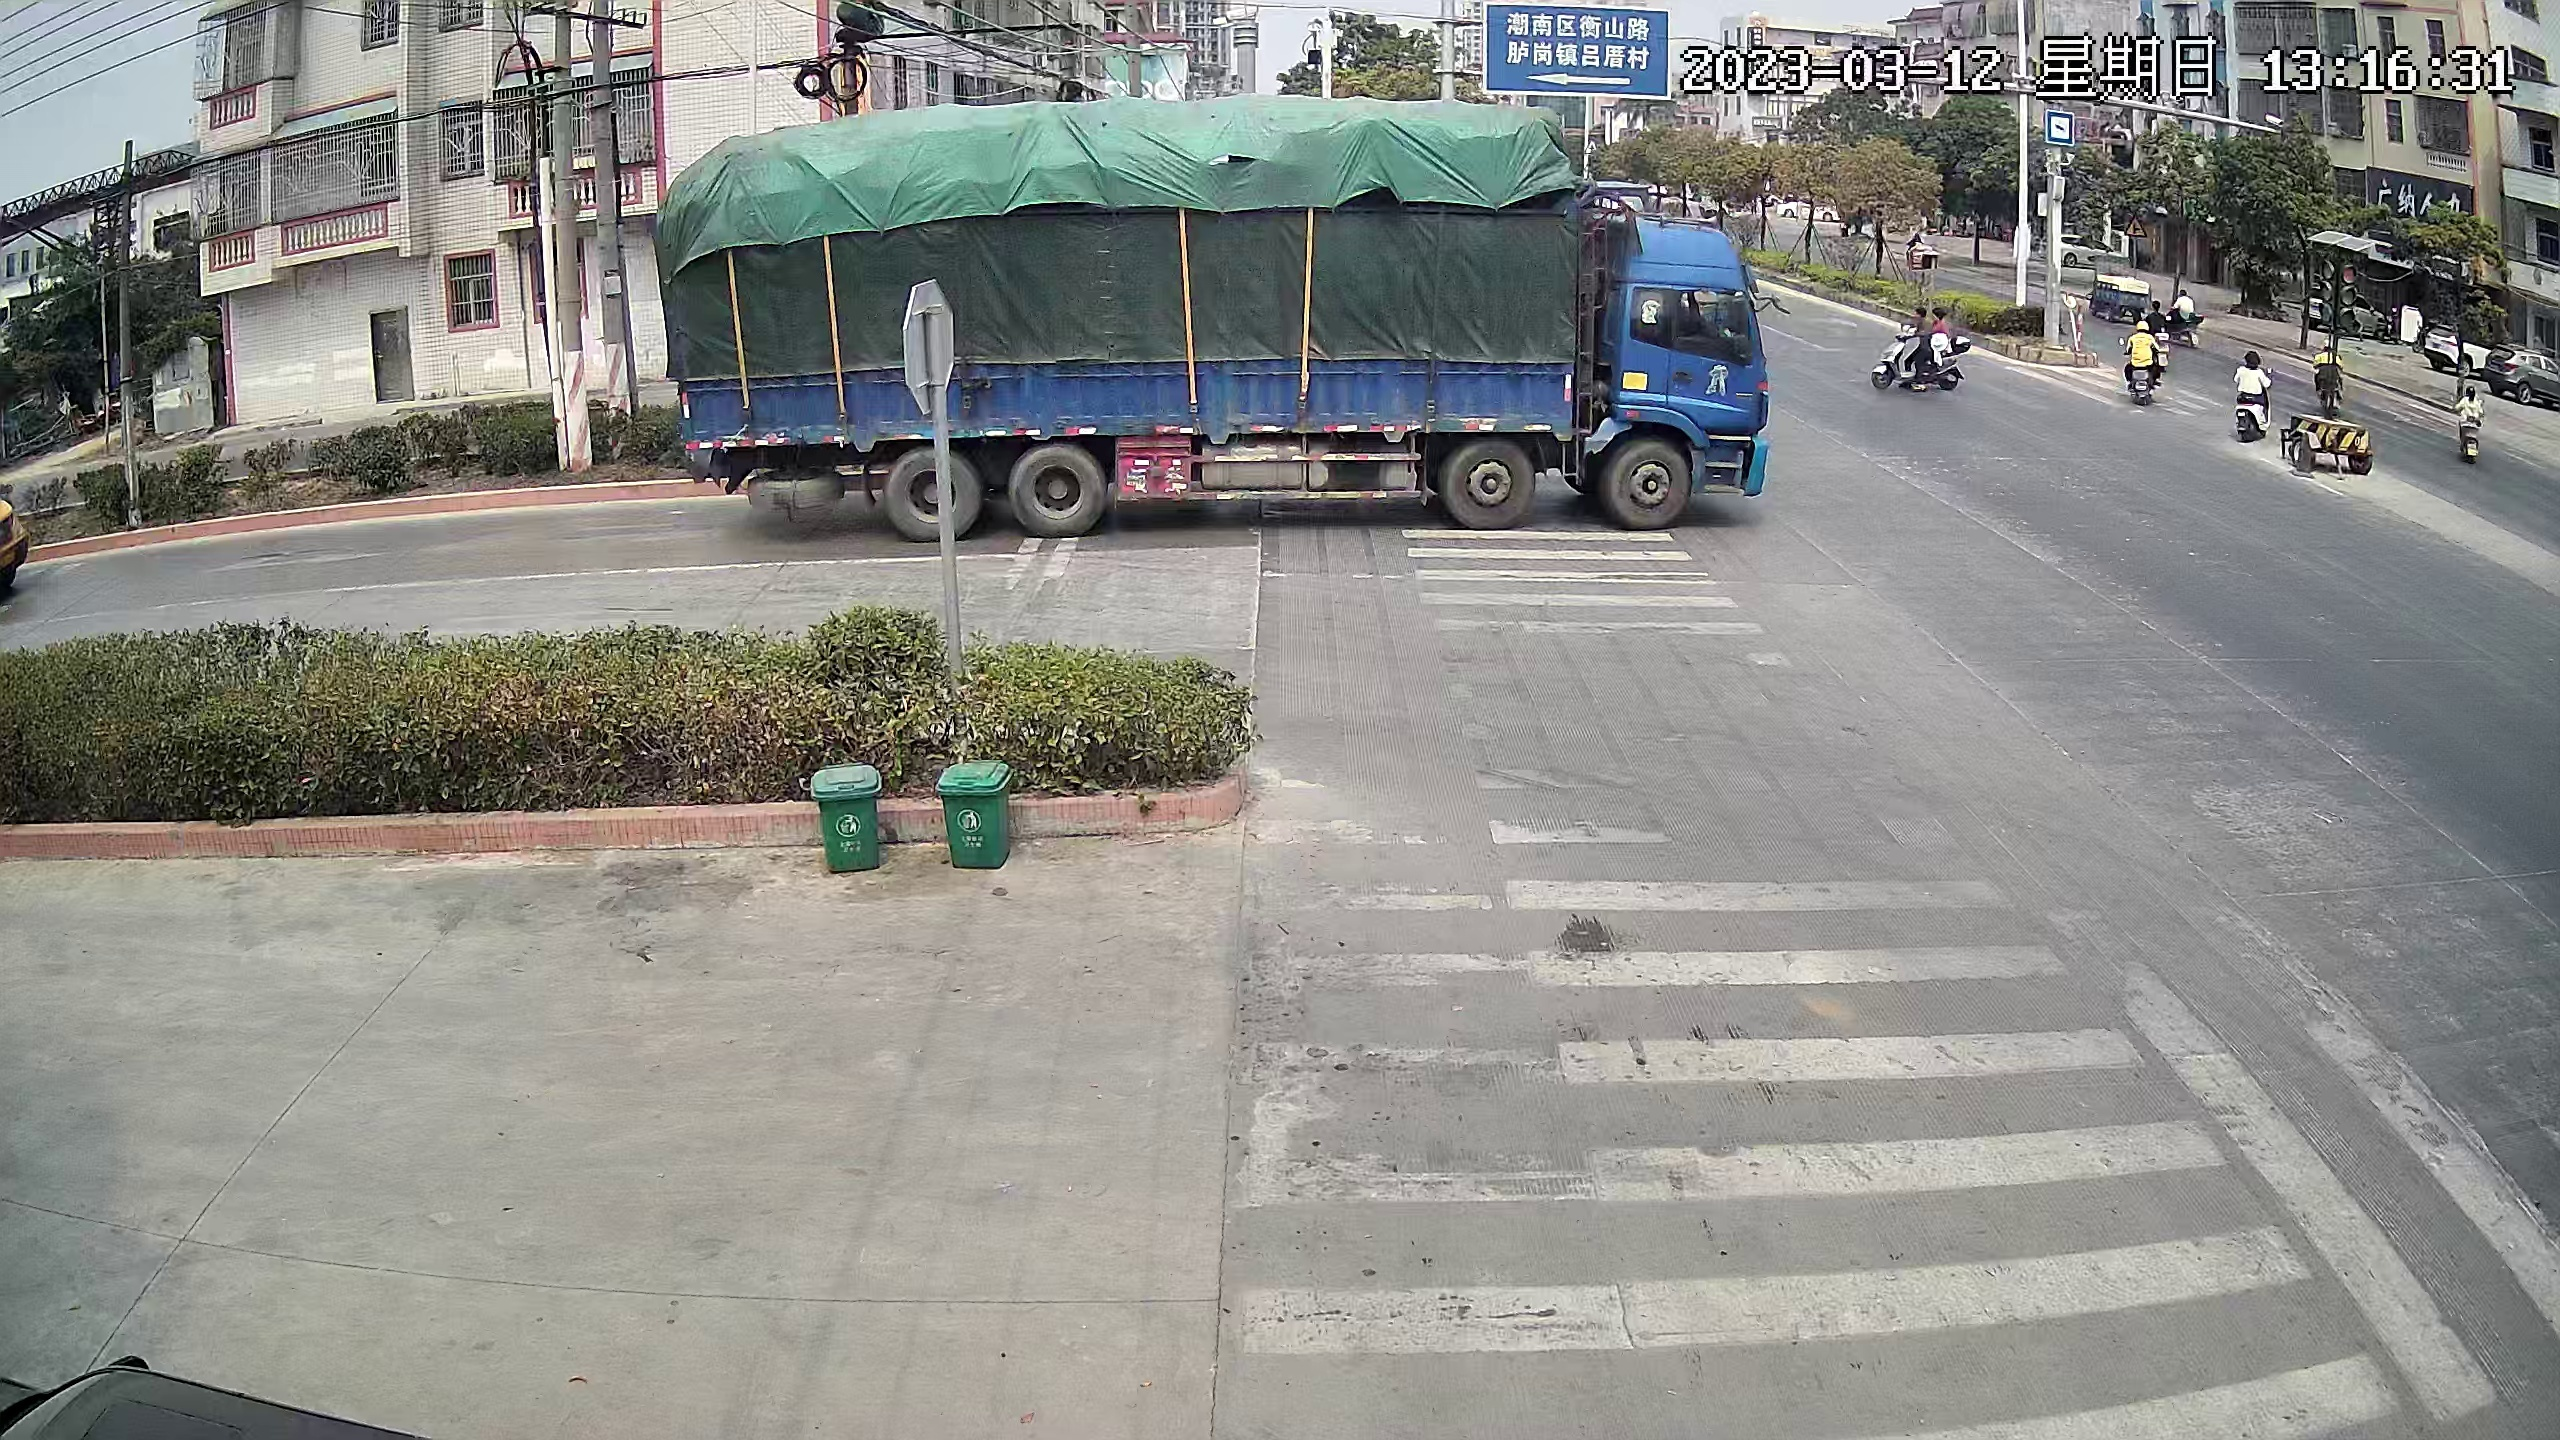motorcycle: (1867, 302, 1973, 404), (2229, 346, 2279, 448), (2119, 315, 2166, 404), (2314, 338, 2354, 425), (2168, 281, 2203, 343), (2458, 383, 2479, 469)
sedan: (4, 1326, 489, 1440), (2495, 348, 2555, 408), (2423, 311, 2479, 373), (2050, 227, 2120, 273)
tricycle: (2089, 250, 2147, 320)
truck: (663, 104, 1772, 549)
